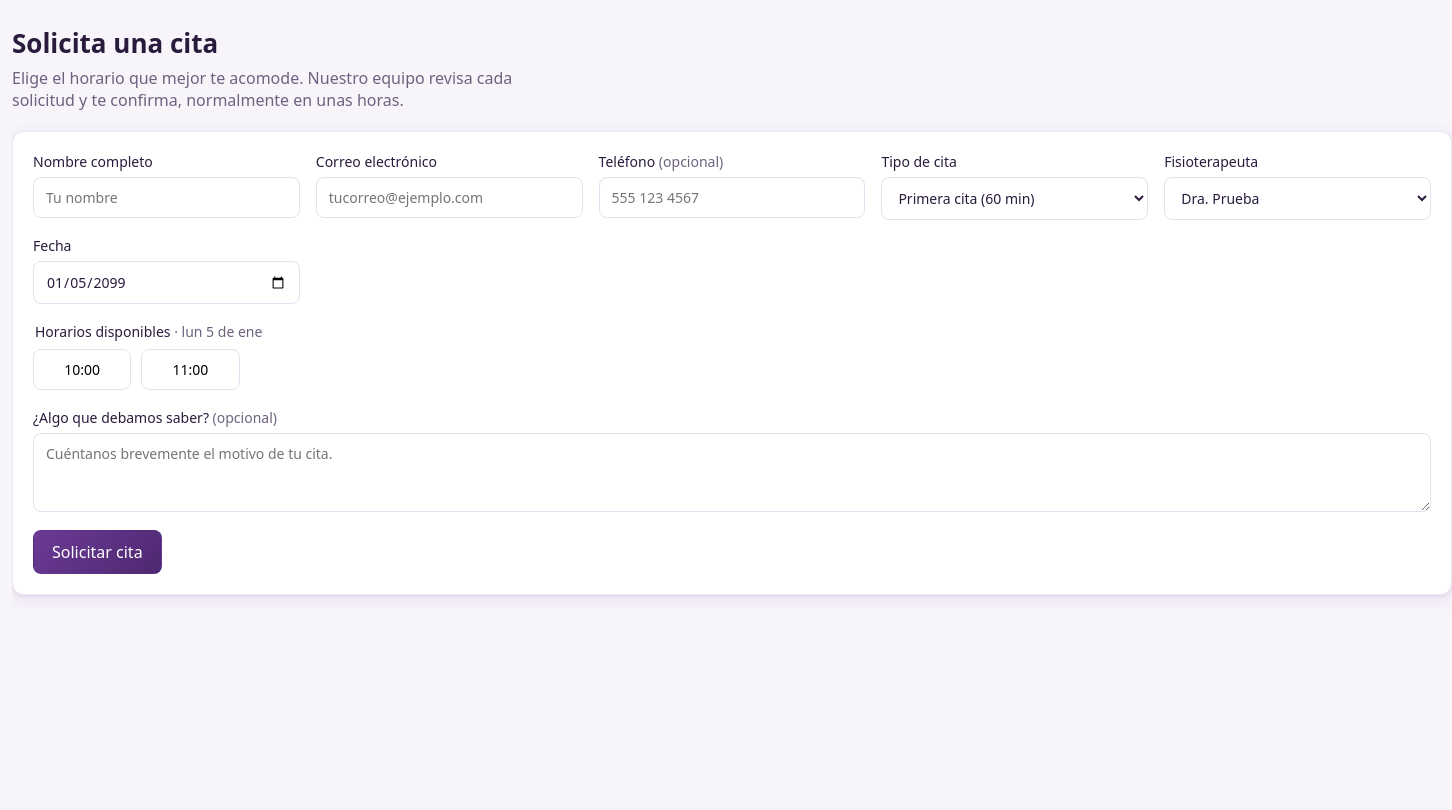
Test: Home picker loading and accessibility › announces the general send error with role="alert"
The width and height of the screenshot is (1452, 810).
Type "Ana" into the field labelled "Nombre completo" at (166, 198), box left=33, top=177, right=300, bottom=218
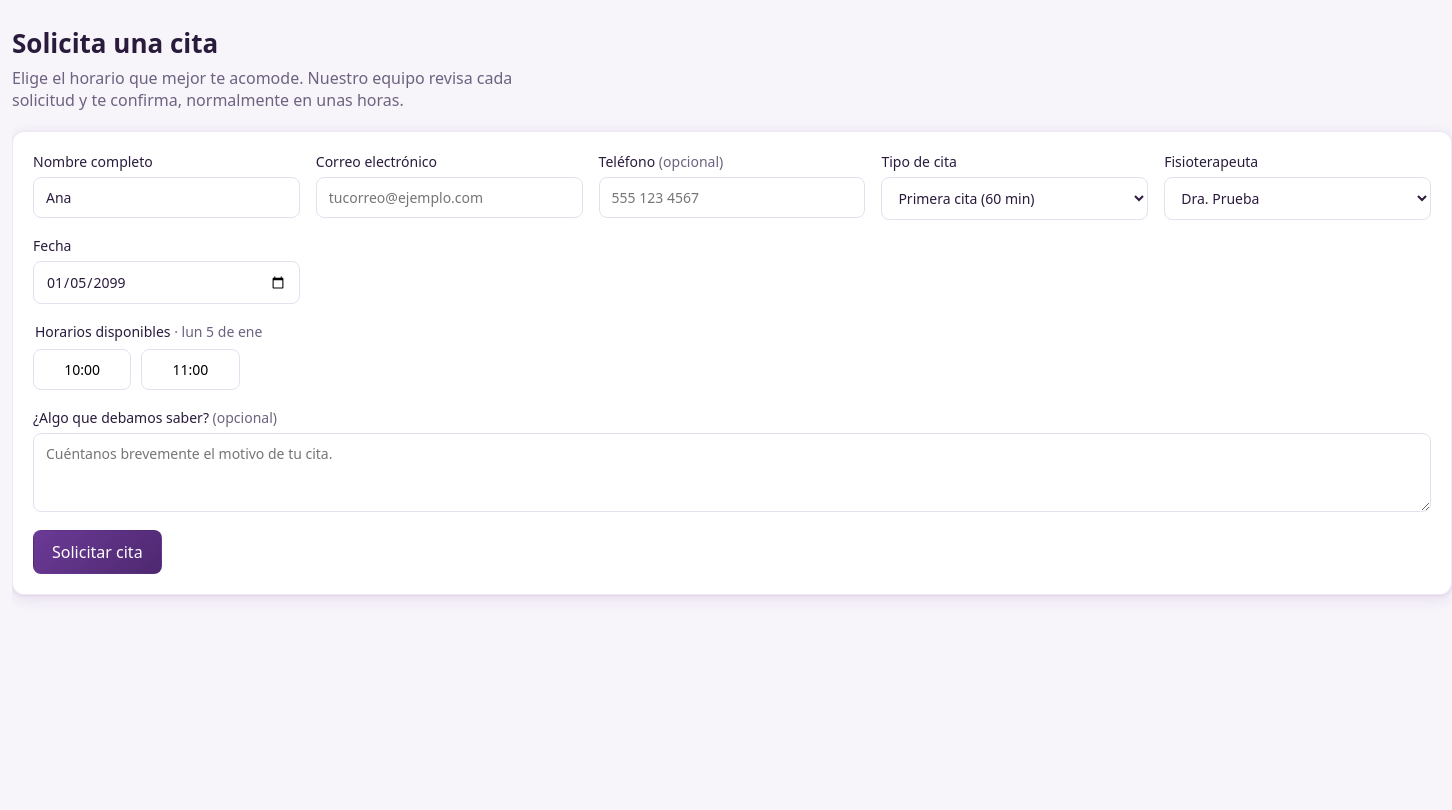
Type "ana@ejemplo.com" into the field labelled "Correo electrónico" at (449, 198), box left=316, top=177, right=583, bottom=218
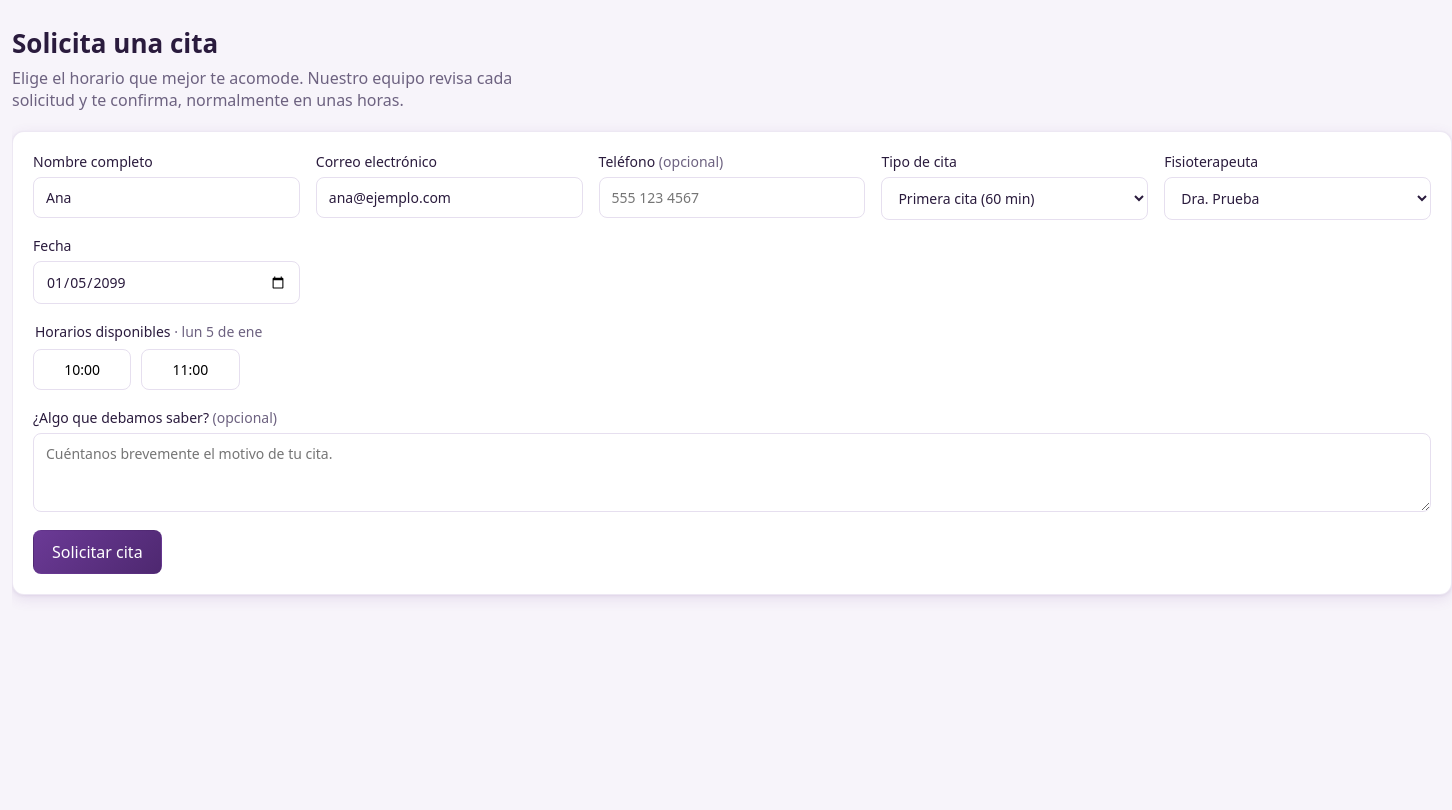
Click the button "10:00" at (82, 370), box left=33, top=349, right=131, bottom=390
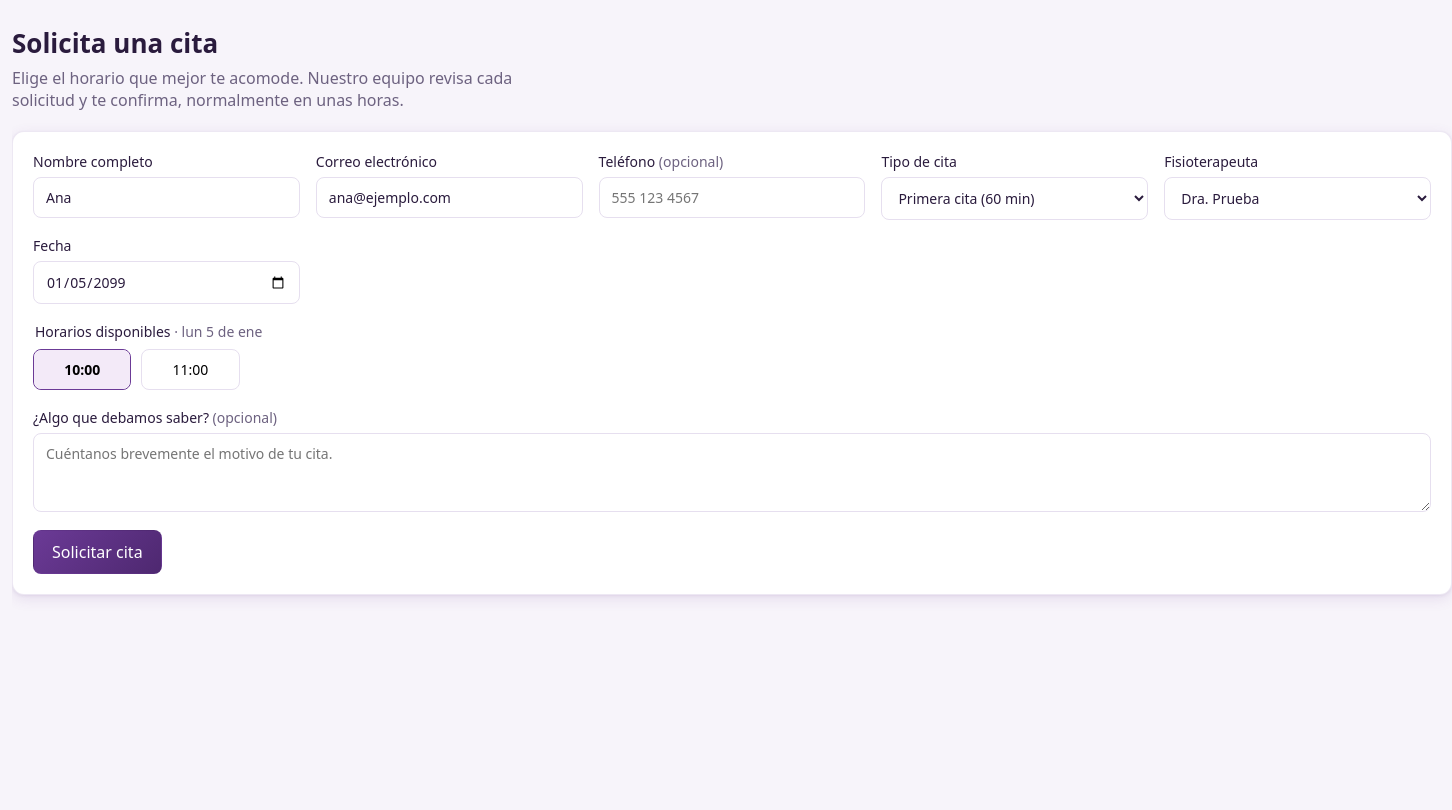
Click the button "Solicitar cita" at (97, 552), box left=33, top=530, right=162, bottom=574
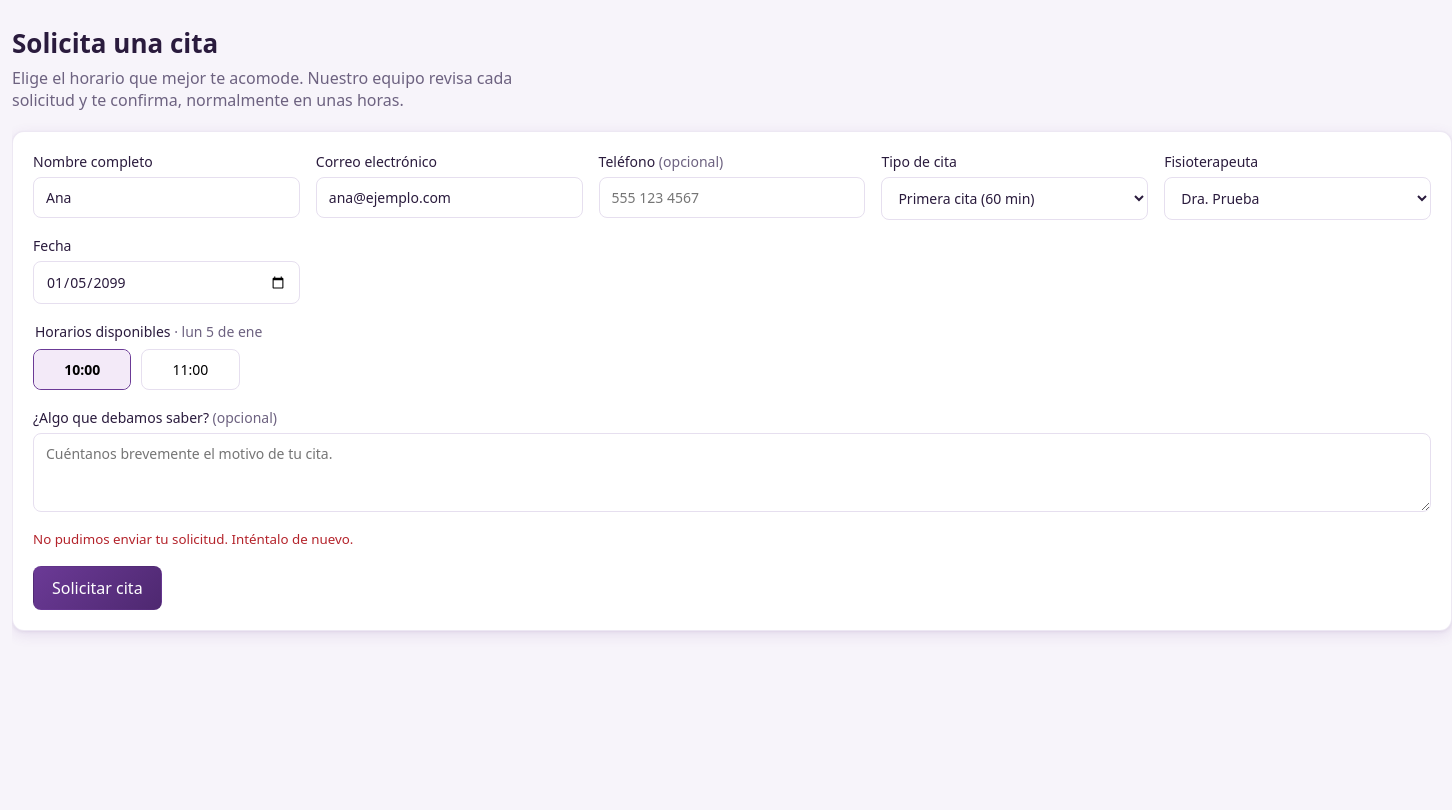
expect the message reads "No pudimos enviar tu solicitud. Inténtalo de nuevo.": met, box left=33, top=530, right=353, bottom=548
